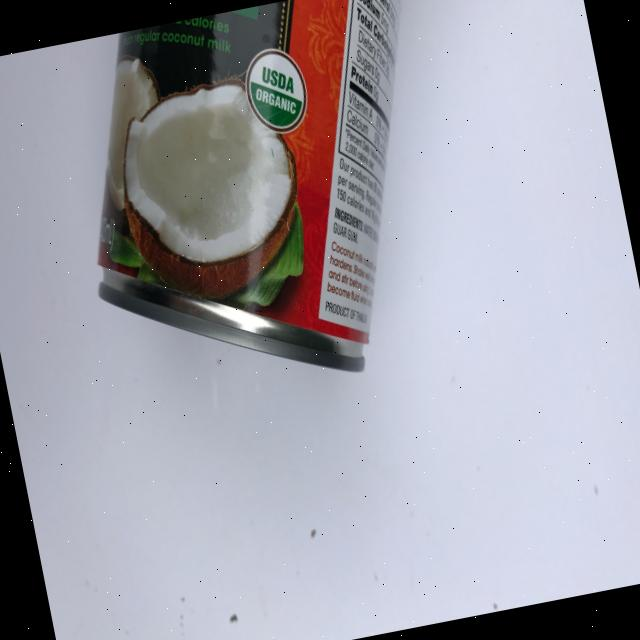metal: (3, 0, 556, 465)
